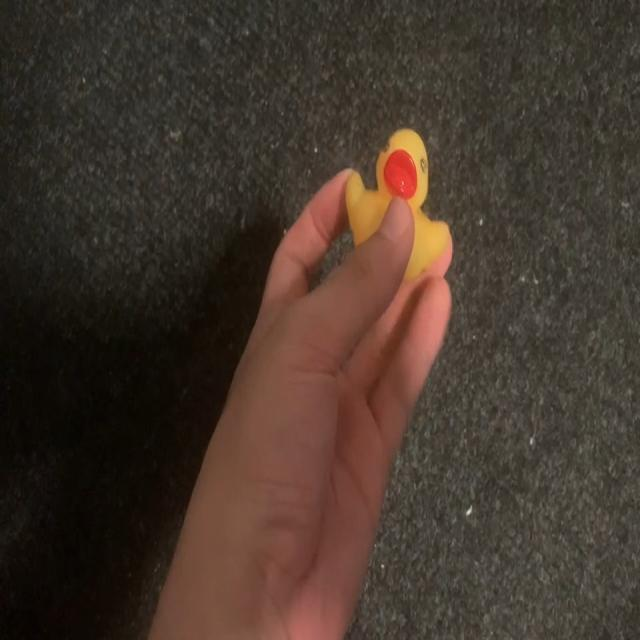rubber-duck: (345, 128, 448, 277)
